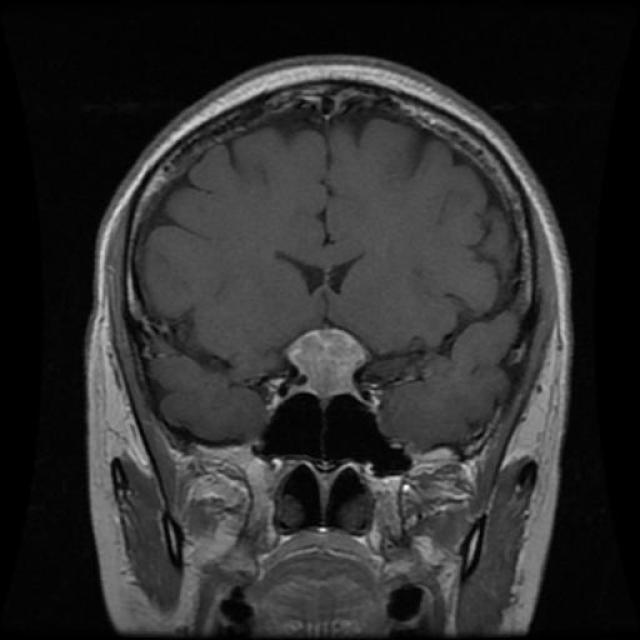pituitary: (289, 316, 383, 416)
